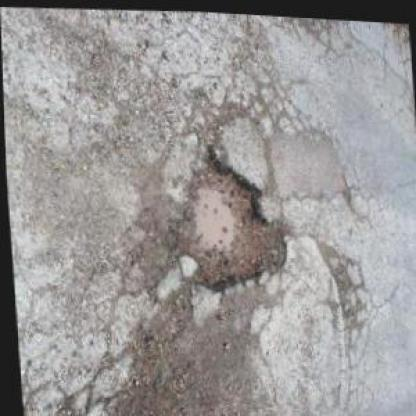pothole: (161, 138, 295, 300)
